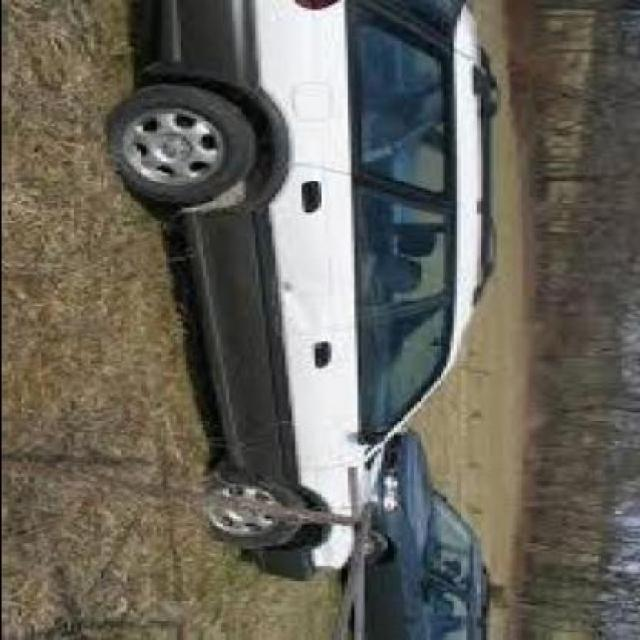damage: (274, 278, 319, 337)
